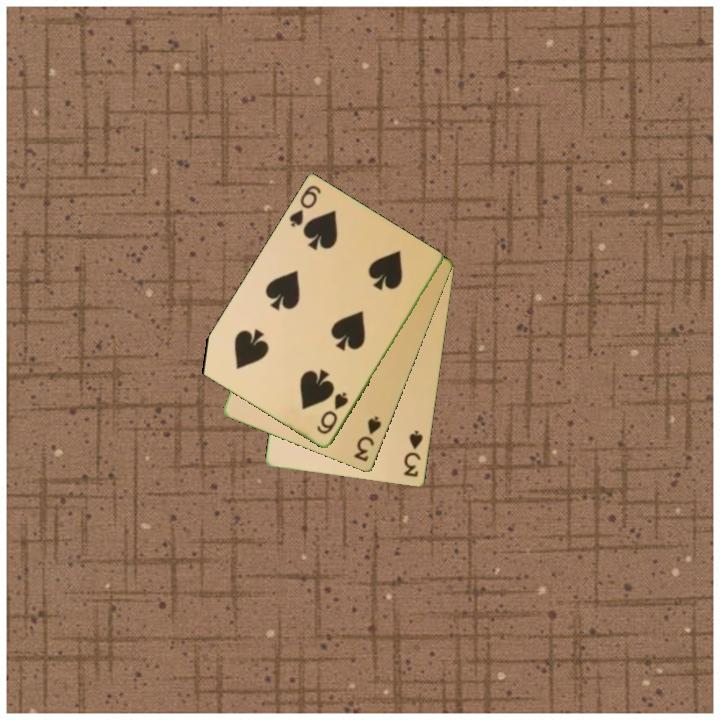3s: (350, 413, 385, 465), (401, 427, 426, 480)
6s: (313, 389, 352, 438), (286, 182, 324, 231)
